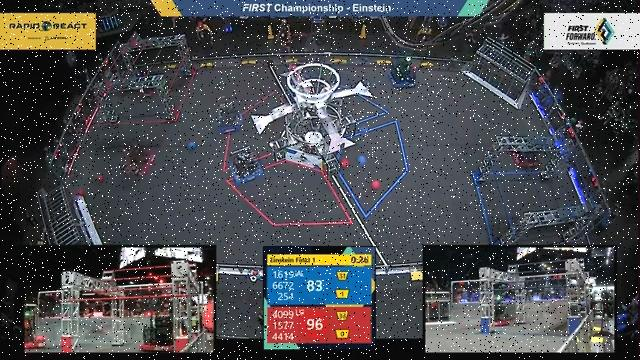Robot: (223, 142, 268, 189), (212, 91, 253, 134), (118, 139, 162, 178), (384, 53, 425, 89), (508, 134, 545, 167)
